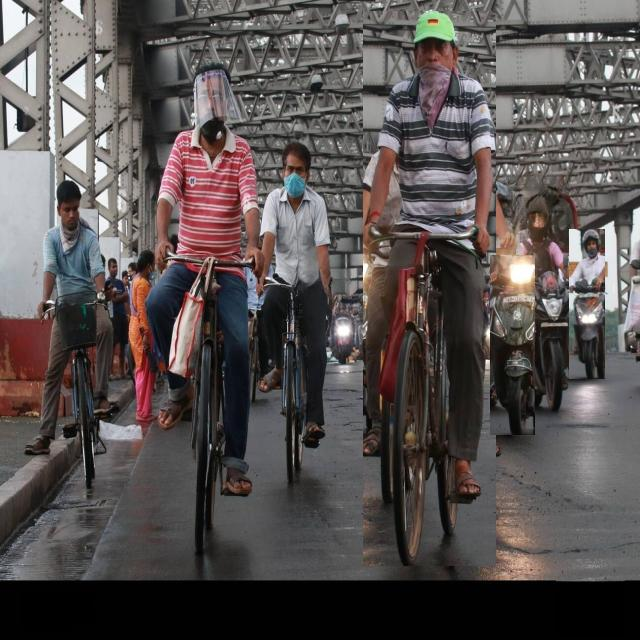bicycle: (363, 12, 495, 566), (146, 63, 264, 552), (25, 180, 119, 487), (258, 141, 331, 480)
motorcycle: (518, 197, 570, 411), (490, 255, 535, 435), (569, 230, 605, 379)
